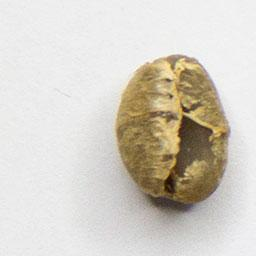peaberry: (113, 50, 233, 208)
